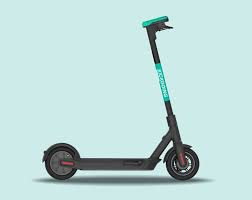kick_board: (41, 15, 200, 180)
kick_body: (79, 157, 160, 170)
kick_handler: (142, 15, 174, 34)
kick_neck: (147, 38, 181, 137)
kick_wheel: (163, 143, 199, 180), (43, 142, 78, 178)
